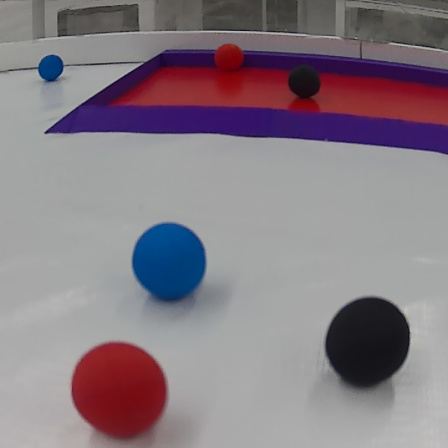black: (323, 295, 410, 393), (281, 63, 324, 103)
blue: (130, 217, 211, 309), (35, 51, 68, 80)
red: (71, 335, 170, 442), (211, 38, 247, 72)
red_aim: (45, 49, 448, 162)
